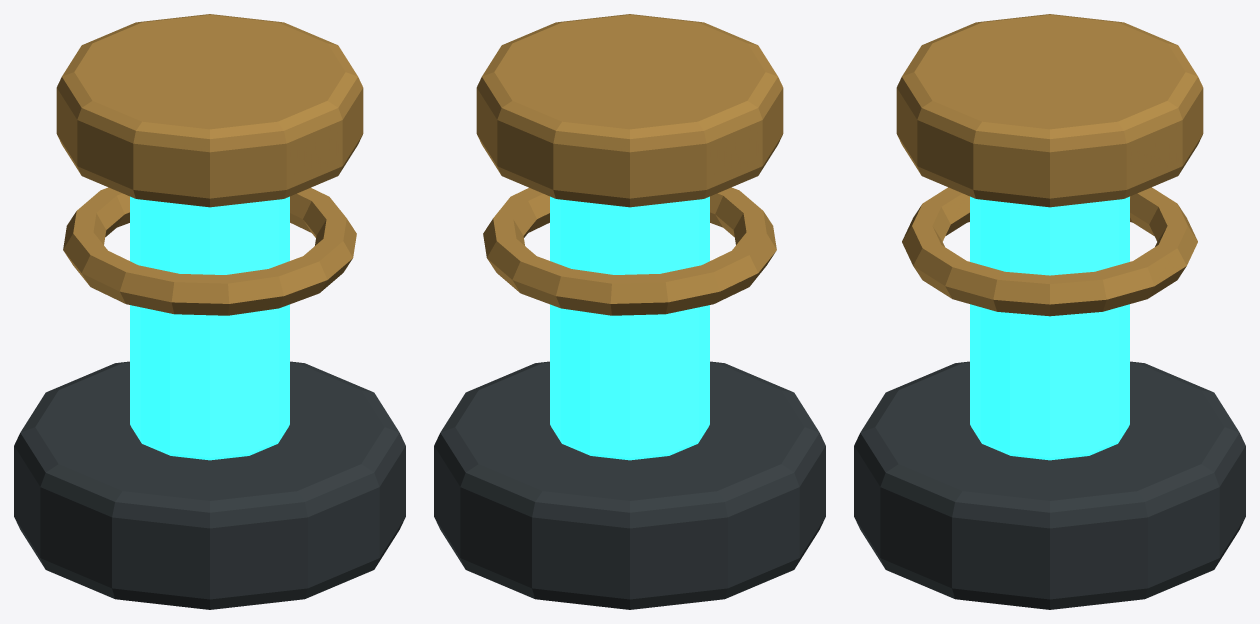
Rendered from fuse.glb.
3 views of the same model, side by side, from view 1: azimuth 30°, elevation 25°; view 2: azimuth 150°, elevation 25°; view 3: azimuth 270°, elevation 25° (orthographic).
Parts seen in each view (by area): view 1: Body, BrassCap, Core, GripRing; view 2: Body, BrassCap, Core, GripRing; view 3: Body, BrassCap, Core, GripRing.
Boxes of the visible parts, box(x1,y1,x2,y2) form: Body: box(14, 361, 405, 609); BrassCap: box(56, 14, 363, 207); Core: box(130, 196, 289, 460); GripRing: box(63, 187, 356, 315); Body: box(434, 361, 825, 609); BrassCap: box(476, 14, 783, 207); Core: box(550, 196, 709, 460); GripRing: box(483, 187, 776, 315); Body: box(854, 361, 1245, 609); BrassCap: box(896, 14, 1203, 207); Core: box(970, 196, 1129, 460); GripRing: box(902, 187, 1197, 316).
Size of the model in its own units: 0.23 by 0.3 by 0.23.
